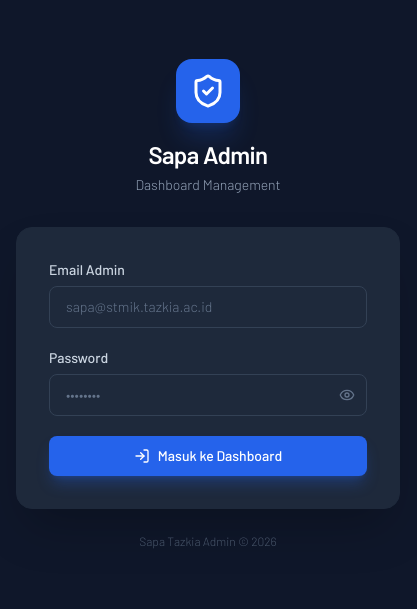
Test: AdminLogin › shows generic error when no response
In the field with placeholder "sapa@stmik.tazkia.ac.id": x=208, y=307 [49,286,367,328], type "a@x.com"
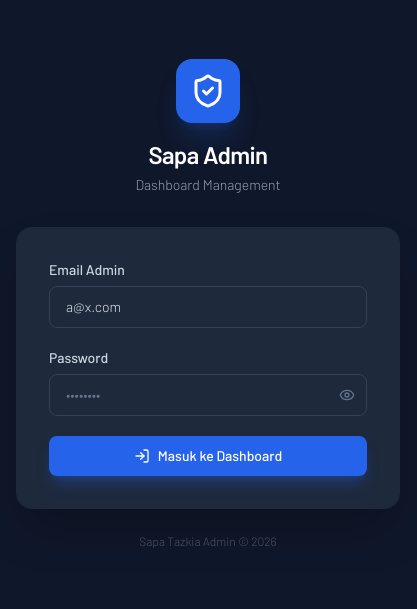
In the password field with placeholder "••••••••": x=208, y=395 [49,374,367,416], type "pw"
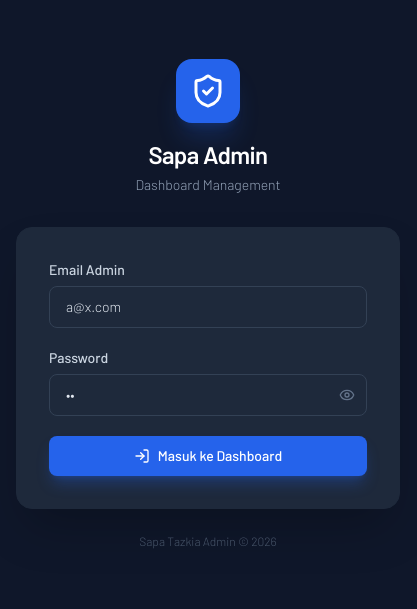
Click the button "Masuk ke Dashboard": x=208, y=456 [49,436,367,476]
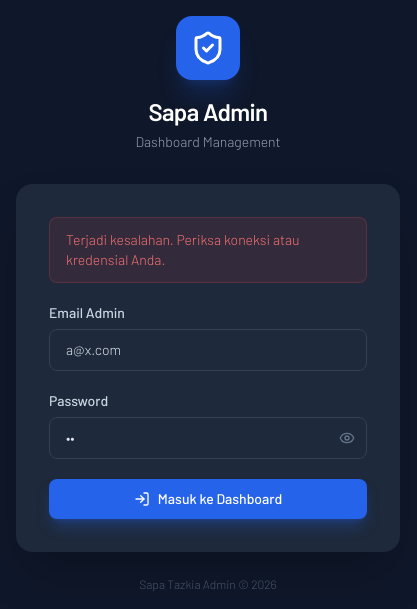
Now the text "Terjadi kesalahan. Periksa koneksi atau kredensial Anda." is shown, box [49,217,367,283]
